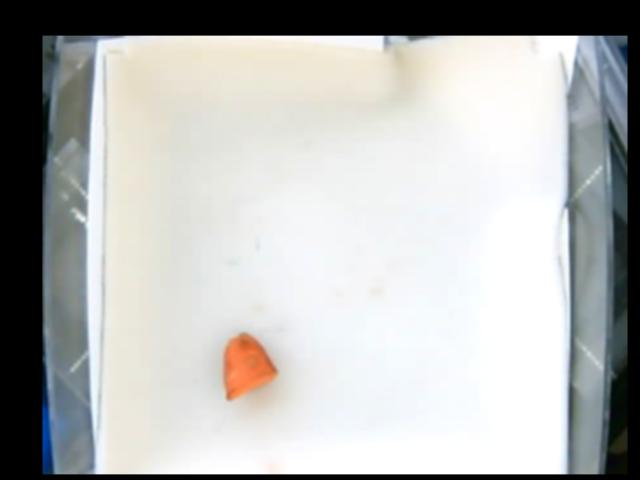Carrot: (225, 330, 274, 400)
